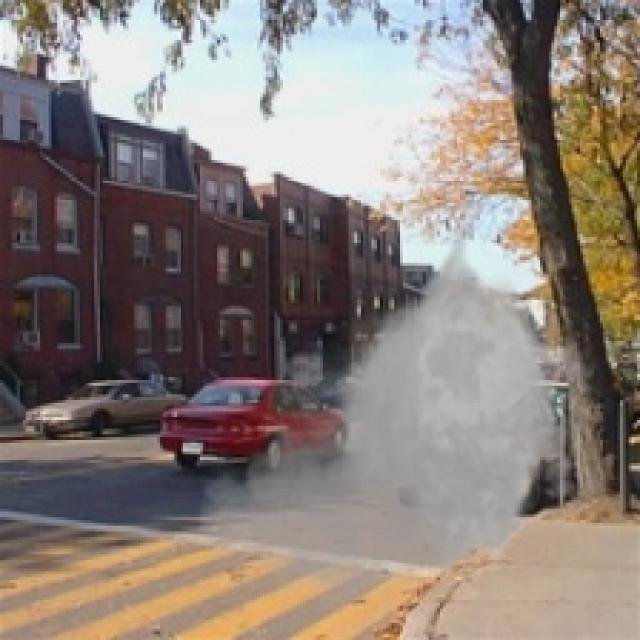smoke: (191, 203, 606, 617)
